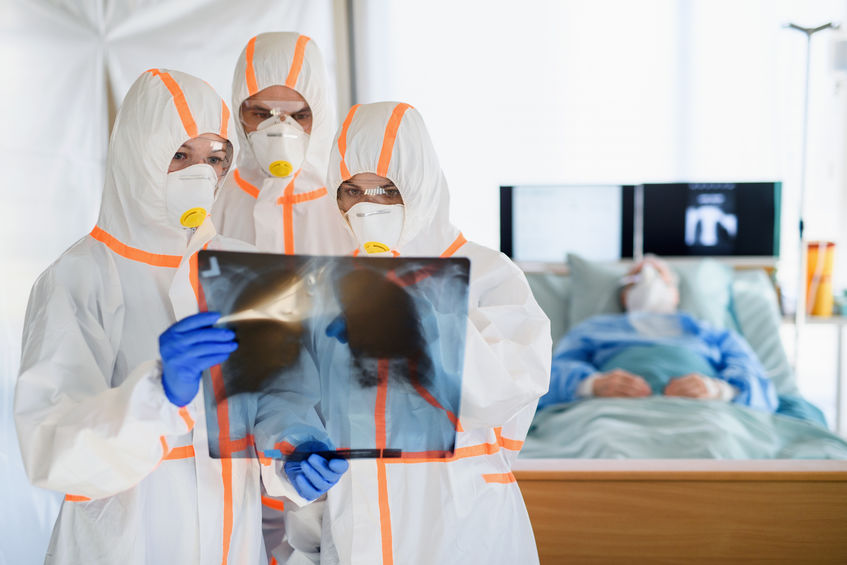Coverall: (15, 66, 262, 564), (328, 101, 550, 565), (210, 33, 332, 256)
Gloves: (158, 311, 236, 407), (285, 436, 349, 502)
Goggles: (240, 99, 312, 134), (337, 176, 406, 212), (173, 136, 232, 177)
with_mask: (249, 117, 309, 179), (168, 162, 218, 229), (344, 201, 406, 254), (627, 267, 672, 312)
